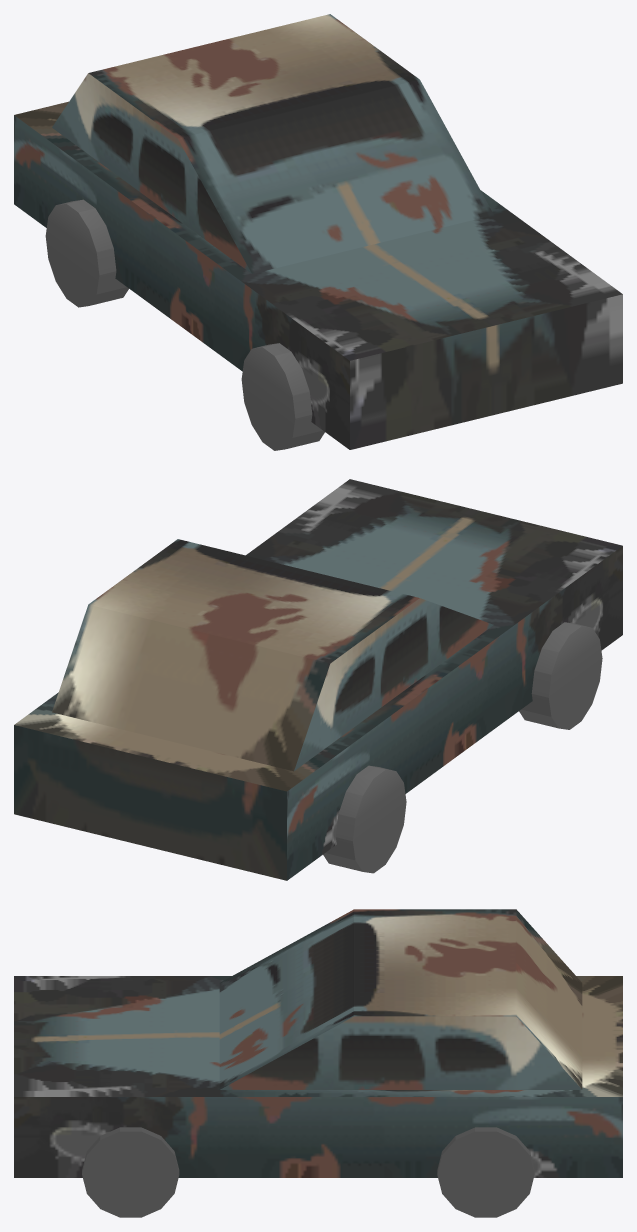
File: Building_AncientRustedCar__C.glb
3 renders of one model, top to bottom at view 1: azimuth 30°, elevation 25°; view 2: azimuth 150°, elevation 25°; view 3: azimuth 270°, elevation 25°, orthographic. The views are drawn at different scales.
Parts seen in each view (by area): view 1: AncientRustedCar; view 2: AncientRustedCar; view 3: AncientRustedCar.
Part boxes in pixels (bbox=[...]): AncientRustedCar: bbox=[14, 14, 622, 450]; AncientRustedCar: bbox=[14, 479, 622, 880]; AncientRustedCar: bbox=[14, 909, 622, 1217].
Size of the model in its own units: 1.93 by 1.29 by 3.75.
Materials: 1 (1 with a texture image).
